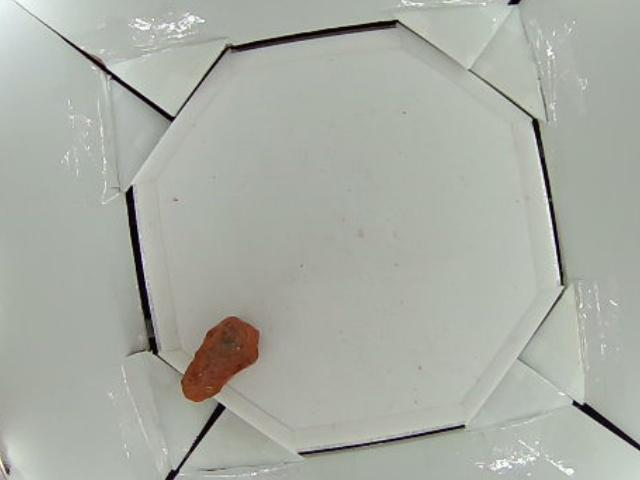Brisk: (177, 318, 261, 400)
